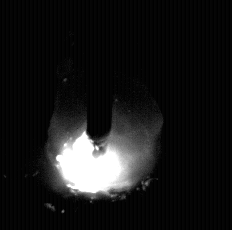arame: (88, 0, 113, 157)
poca: (46, 0, 155, 230)
